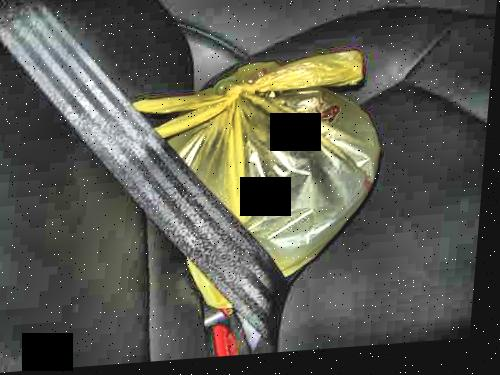seatbelt: (0, 0, 329, 355)
